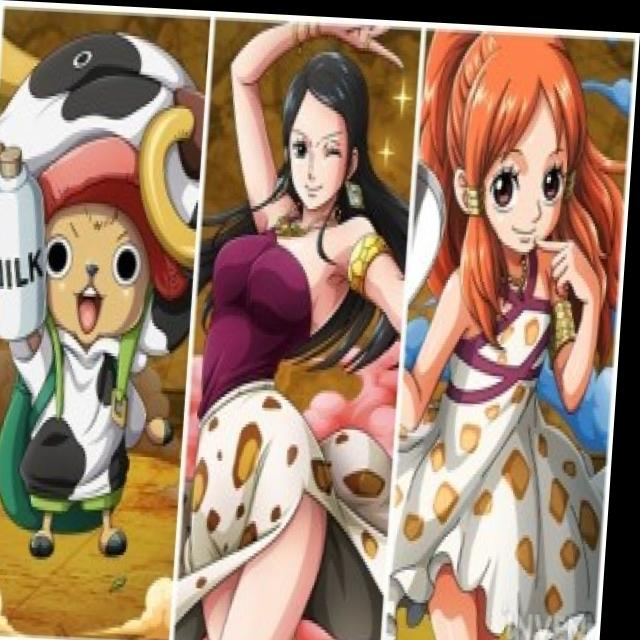Chyopa: (0, 23, 209, 562)
Nami: (420, 38, 606, 283)
NicoRobin: (261, 40, 393, 229)
